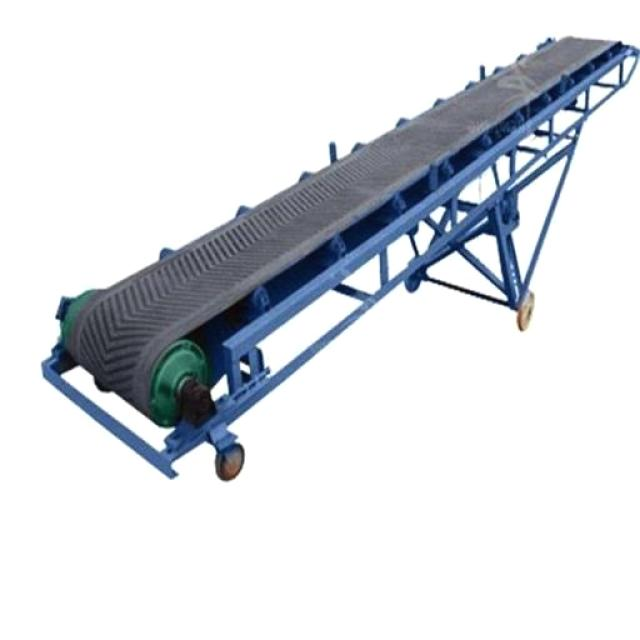conveyor: (70, 37, 618, 425)
